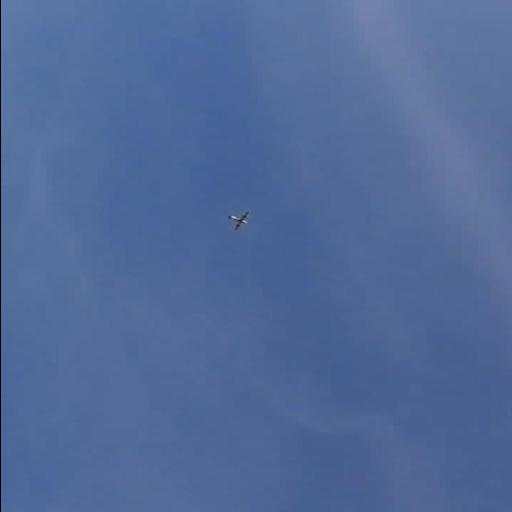uav: (222, 209, 252, 232)
